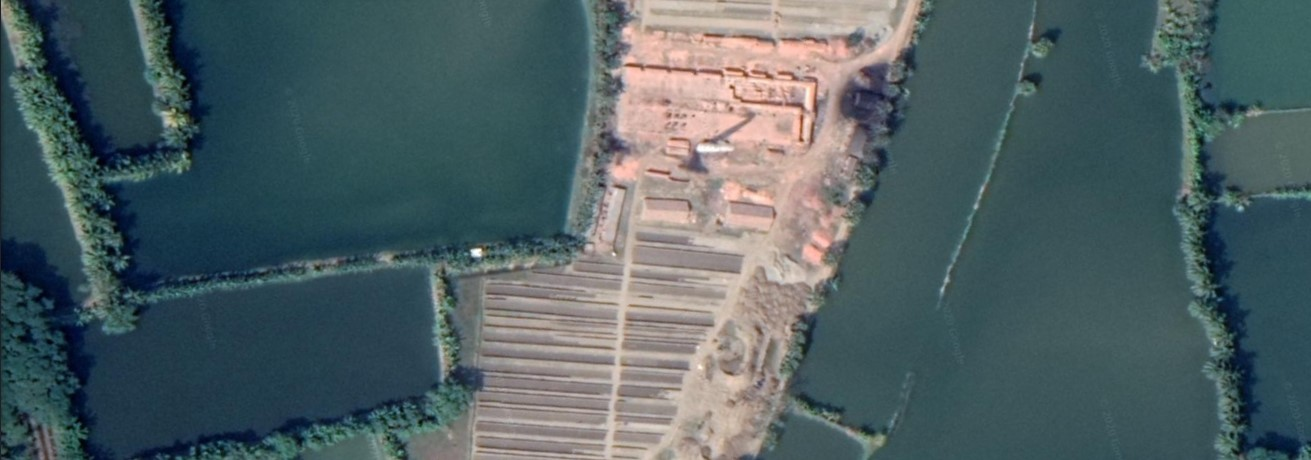kiln: (633, 71, 815, 187)
